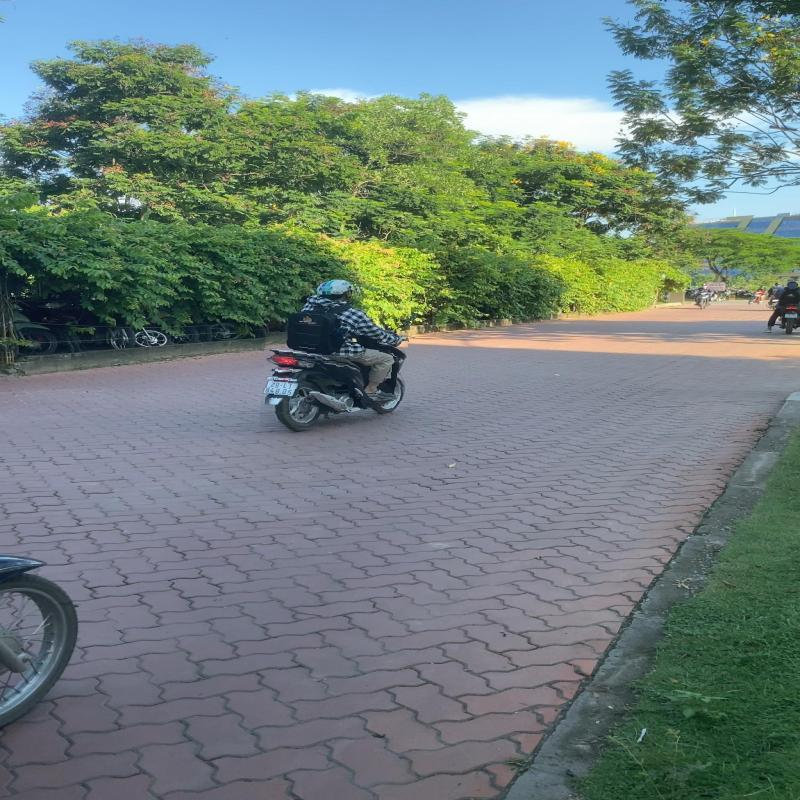helmet: (316, 278, 358, 303)
licenseplate: (262, 380, 300, 397)
motorcyclist: (262, 278, 410, 434)
